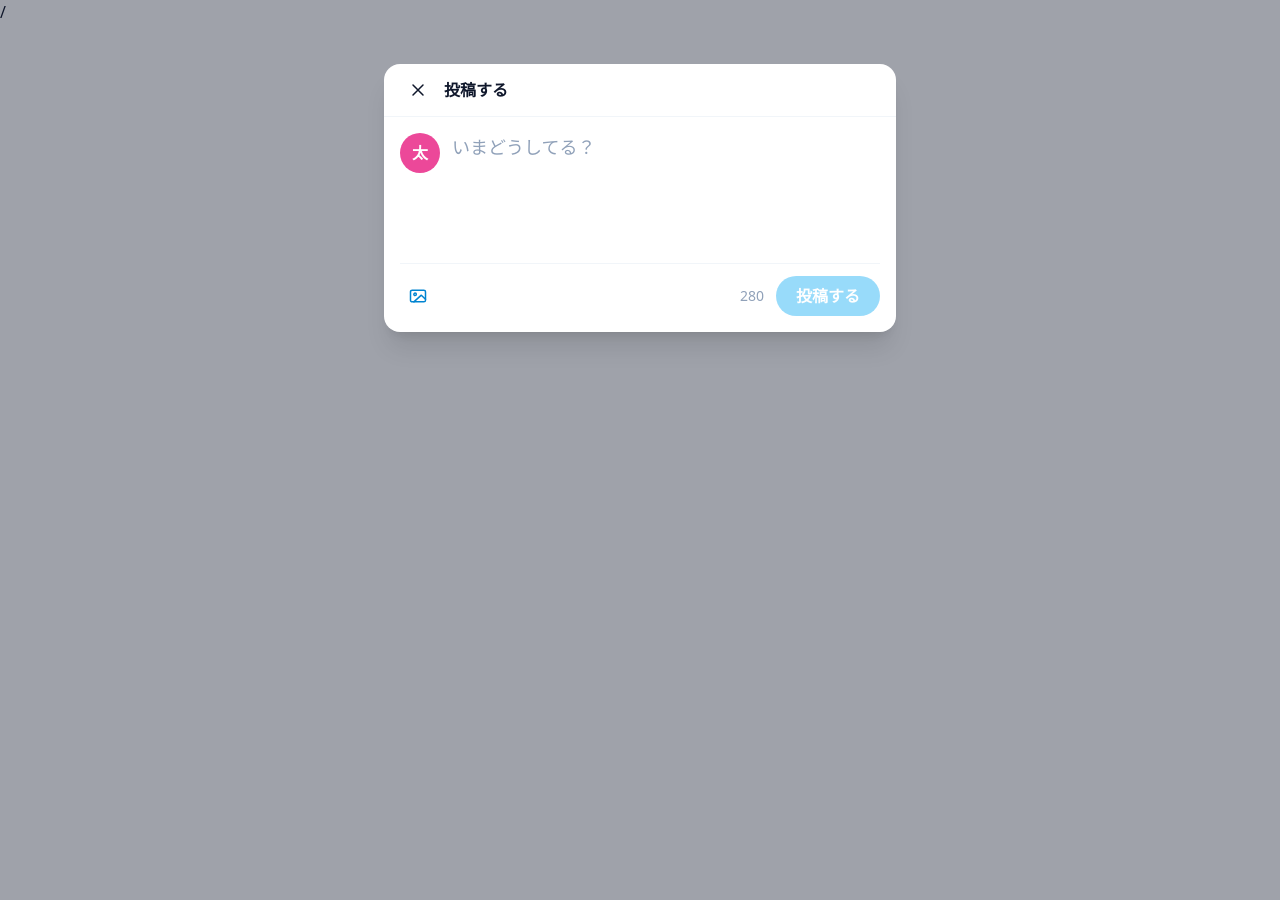
Scenario: ComposeModal › 投稿したらタイムラインを取り直し、トーストを出して閉じる
Type "こんにちは" into the text box with placeholder "いまどうしてる？" at (666, 189), box [452, 133, 880, 245]
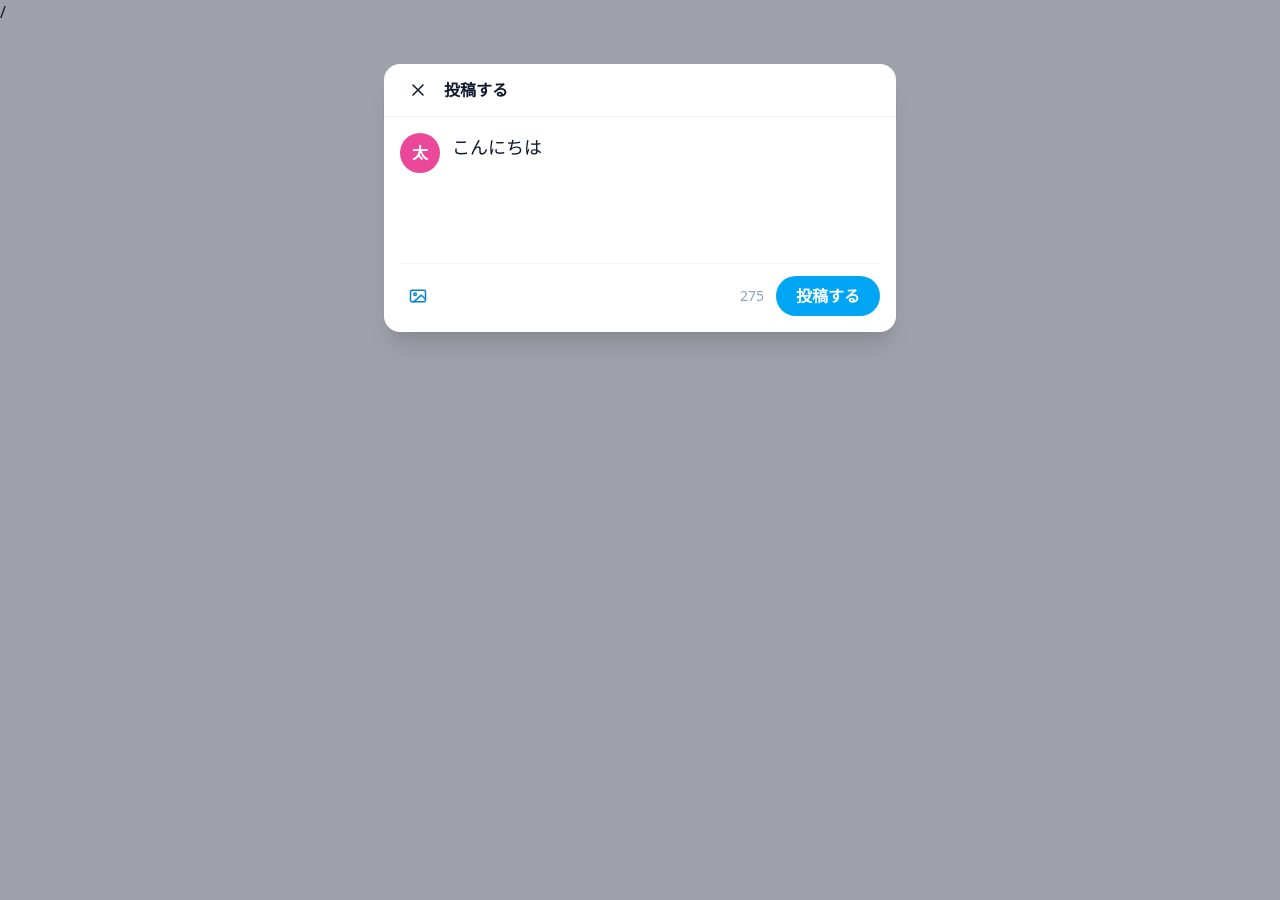
Click the button "投稿する" at (828, 296), box [776, 276, 880, 316]
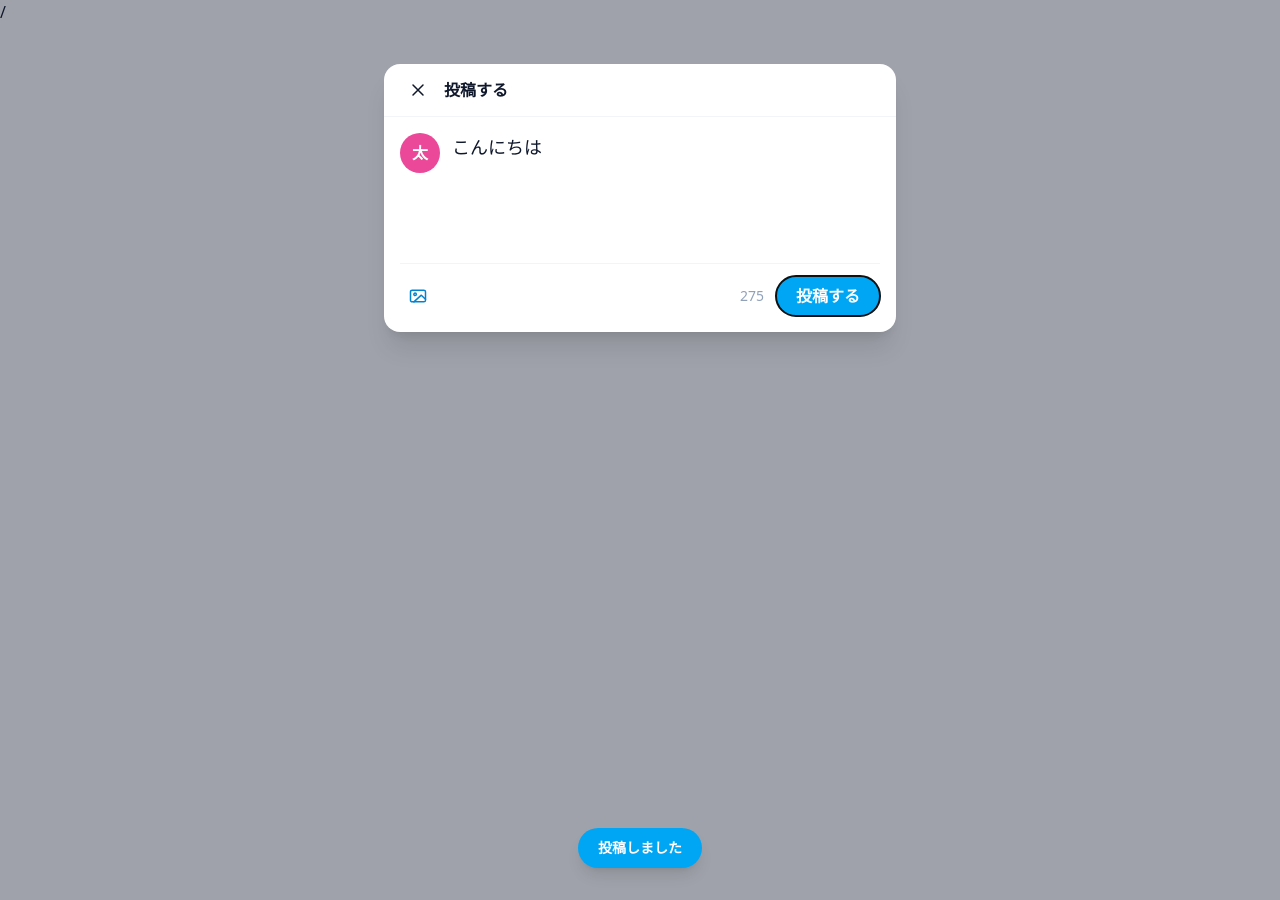
Now the message reads "投稿しました", box [598, 838, 682, 857]
